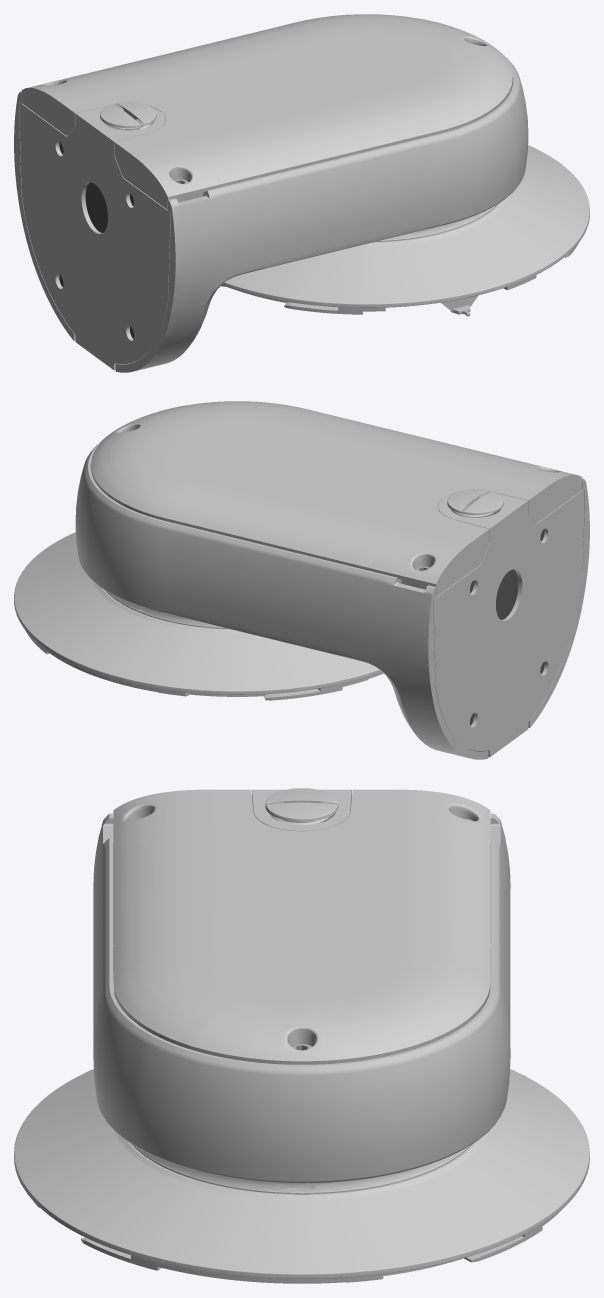
Rendered from uacc-ai-ms-4-am.glb.
3 renders of one model, top to bottom at view 1: azimuth 30°, elevation 25°; view 2: azimuth 150°, elevation 25°; view 3: azimuth 270°, elevation 25°, orthographic. The views are drawn at different scales.
Parts seen in each view (by area): view 1: BottomPiece, TopCover_, BackPiece, TopFunnelDisc, TopFlatDisc, BottomBigScrew, Plane_2; view 2: BottomPiece, TopCover_, BackPiece, TopFunnelDisc, TopFlatDisc, BottomBigScrew, Plane_2; view 3: BottomPiece, TopCover_, TopFunnelDisc, TopFlatDisc, BottomBigScrew, BackPiece.
Part boxes in pixels (x1,y1,x2,y2): BottomPiece: [21, 14, 512, 209]; TopCover_: [14, 48, 528, 372]; BackPiece: [19, 102, 170, 370]; TopFunnelDisc: [221, 145, 589, 307]; TopFlatDisc: [219, 243, 578, 316]; BottomBigScrew: [100, 102, 156, 129]; Plane_2: [59, 142, 133, 338]; BottomPiece: [91, 401, 582, 596]; TopCover_: [75, 435, 589, 759]; BackPiece: [433, 489, 584, 757]; TopFunnelDisc: [14, 532, 382, 694]; TopFlatDisc: [25, 630, 383, 700]; BottomBigScrew: [447, 489, 503, 517]; Plane_2: [470, 529, 544, 725]; BottomPiece: [113, 789, 490, 1064]; TopCover_: [93, 813, 510, 1194]; TopFunnelDisc: [14, 1069, 589, 1278]; TopFlatDisc: [33, 1201, 564, 1283]; BottomBigScrew: [265, 788, 338, 824]; BackPiece: [113, 789, 490, 944].
Bounding box in the file's own units: 0.3045 × 0.1504 × 0.253.
6 materials, 2 textured.
